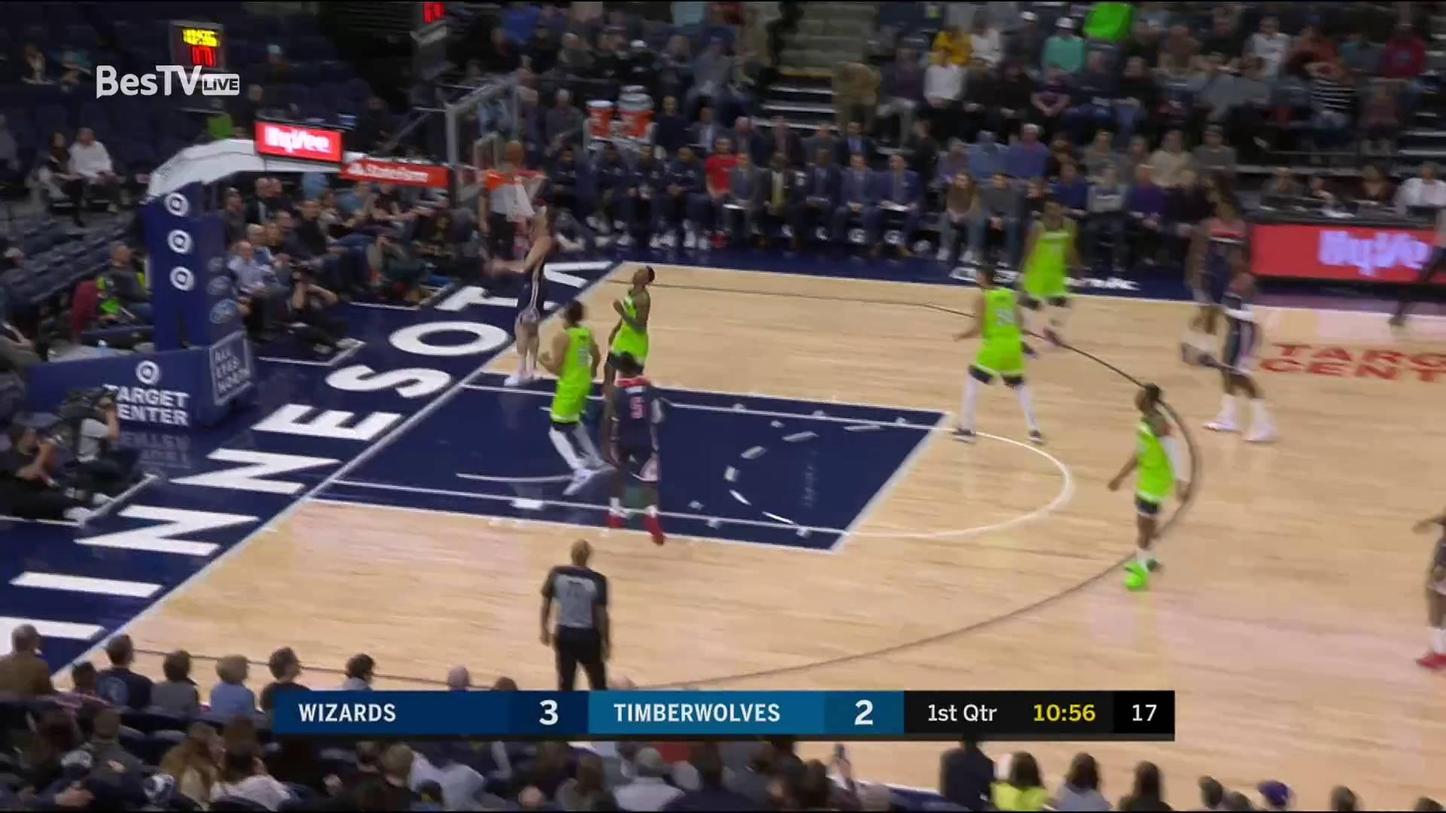basketball: (500, 137, 528, 169)
